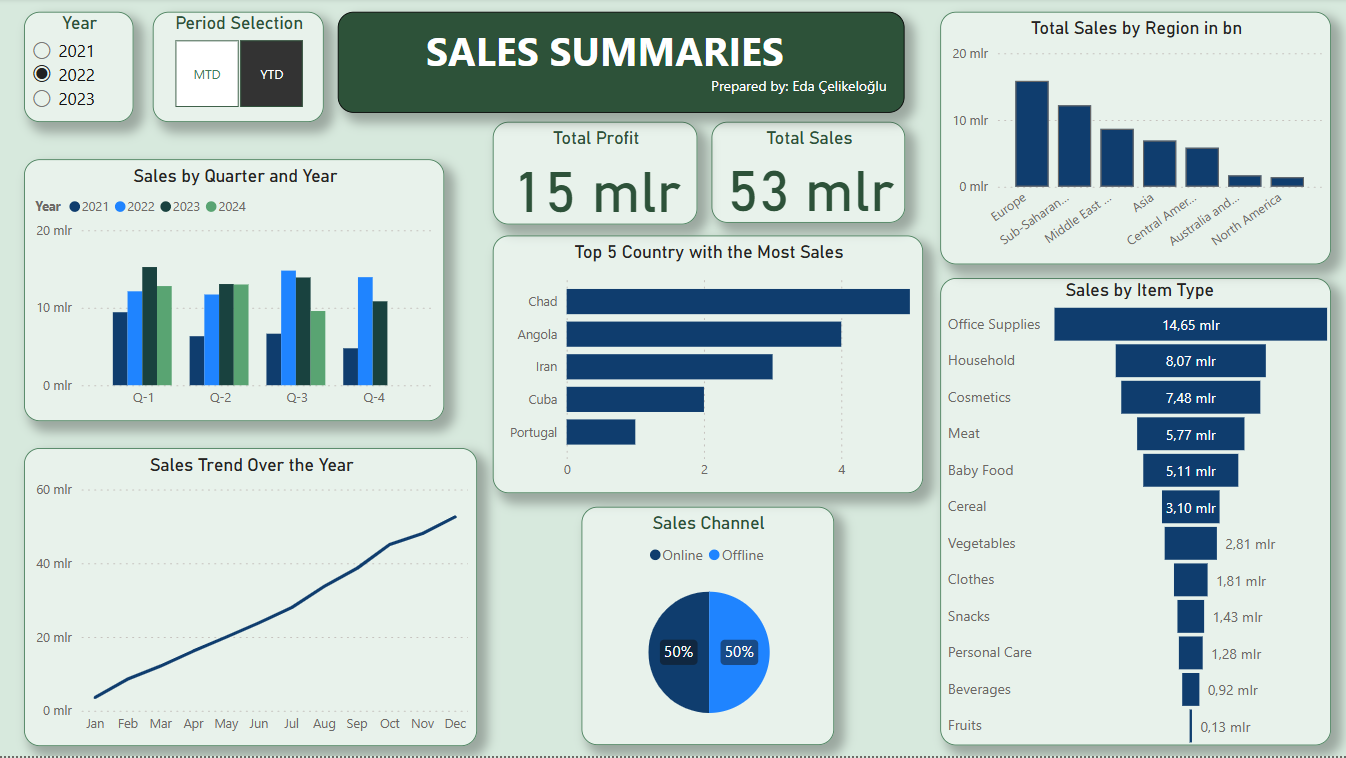

The page's visual inventory and layout, read from the dashboard file:
{"tool":"powerbi","page":{"name":"Ana Rapor","canvas":[1280,720],"ordinal":0},"visuals":[{"type":"card","title":"Total Sales","fields":{"Values":["Sales.Selected Sales"]},"box":[676.4,118.1,184.2,96.4],"z":0},{"type":"card","title":"Total Profit","fields":{"Values":["Sales.Total Profit"]},"box":[492.2,118.1,171,96.4],"z":1000},{"type":"lineChart","title":"Sales Trend Over the Year","fields":{"Category":["Calendar Table.Month Name"],"Y":["Sales.Selected Sales"]},"box":[23.6,427,430.8,283.4],"z":2000},{"type":"clusteredBarChart","title":"Top 5 Country with the Most Sales","fields":{"Y":["Sales.Rank by Sales"],"Category":["Sales.Country"]},"box":[469.5,225.8,409,244.7],"z":3000},{"type":"funnel","title":"Sales by Item Type","fields":{"Category":["Sales.Item Type"],"Y":["Sales.Selected Sales"]},"box":[894.6,266.4,371.2,444],"z":4000},{"type":"clusteredColumnChart","title":"Total Sales by Region in bn","fields":{"Category":["Sales.Region"],"Y":["Sales.Selected Sales"]},"box":[894.6,13.2,371.2,239.9],"z":5000},{"type":"pieChart","title":"Sales Channel","fields":{"Category":["Sales.Sales Channel"],"Y":["Sales.Selected Sales"]},"box":[553.6,483.7,239.9,226.7],"z":6000},{"type":"slicer","title":"Period Selection","fields":{"Values":["Time Period Selection.Time Period"]},"box":[146.4,13.2,162.5,104.9],"z":7000},{"type":"clusteredColumnChart","title":"Sales by Quarter and Year","fields":{"Series":["Calendar Table.Year"],"Y":["Sales.Total Sales"],"Category":["Calendar Table.Quarter"]},"box":[23.6,153,399.6,248.4],"z":8000},{"type":"slicer","title":"Year","fields":{"Values":["Calendar Table.Date.Variation.Date Hierarchy.Year"]},"box":[23.6,13.2,103.9,104.9],"z":9000},{"type":"textbox","box":[322.1,13.2,538.5,96.4],"z":10000}]}

Visuals, with their boxes in screenshot pixels (x1, y1, x2, y2), scaled from the page's 1280x720 canvas onto the 1346x758 screenshot:
"Total Sales" card: rect(711, 124, 905, 226)
"Total Profit" card: rect(518, 124, 697, 226)
"Sales Trend Over the Year" lineChart: rect(25, 450, 478, 748)
"Top 5 Country with the Most Sales" clusteredBarChart: rect(494, 238, 924, 495)
"Sales by Item Type" funnel: rect(941, 280, 1331, 748)
"Total Sales by Region in bn" clusteredColumnChart: rect(941, 14, 1331, 266)
"Sales Channel" pieChart: rect(582, 509, 834, 748)
"Period Selection" slicer: rect(154, 14, 325, 124)
"Sales by Quarter and Year" clusteredColumnChart: rect(25, 161, 445, 423)
"Year" slicer: rect(25, 14, 134, 124)
textbox: rect(339, 14, 905, 115)
